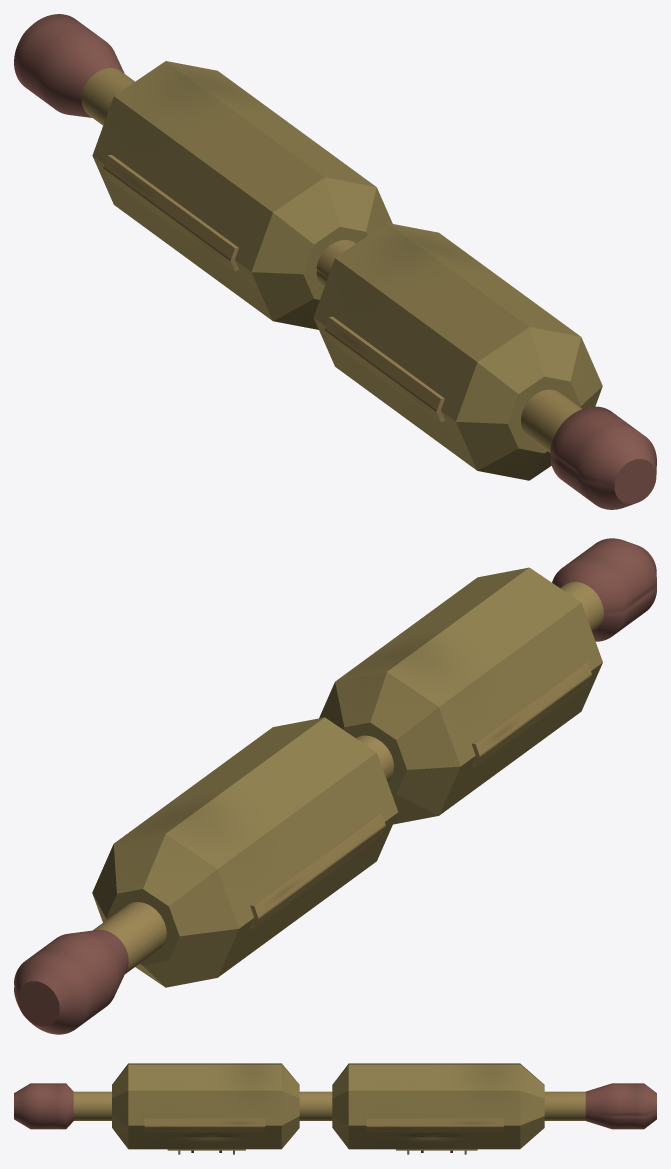
3 views of the same model, one above another, from view 1: azimuth 30°, elevation 25°; view 2: azimuth 150°, elevation 25°; view 3: azimuth 270°, elevation 25° (orthographic). The views are drawn at different scales.
Parts seen in each view (by area): view 1: Braccatian Comms Killer gold rear barrel, Braccatian Comms Killer gold forward barrel, Braccatian Comms Killer red forward terminal, Braccatian Comms Killer red rear terminal, Braccatian Comms Killer gold central shaft, Braccatian Comms Killer gold longitudinal casting 1 1, Braccatian Comms Killer gold longitudinal casting 0 1; view 2: Braccatian Comms Killer gold rear barrel, Braccatian Comms Killer gold forward barrel, Braccatian Comms Killer red rear terminal, Braccatian Comms Killer red forward terminal, Braccatian Comms Killer gold central shaft, Braccatian Comms Killer gold longitudinal casting 1 1, Braccatian Comms Killer gold longitudinal casting 0 1; view 3: Braccatian Comms Killer gold rear barrel, Braccatian Comms Killer gold forward barrel, Braccatian Comms Killer gold central shaft, Braccatian Comms Killer red rear terminal, Braccatian Comms Killer red forward terminal, Braccatian Comms Killer gold longitudinal casting 1 0, Braccatian Comms Killer gold longitudinal casting 0 0, Braccatian Comms Killer service cover 1.
Boxes of the visible parts, x1,y1,x2,y2 form: Braccatian Comms Killer gold rear barrel: (92,61,392,329); Braccatian Comms Killer gold forward barrel: (313,223,602,480); Braccatian Comms Killer red forward terminal: (550,406,656,509); Braccatian Comms Killer red rear terminal: (14,14,124,117); Braccatian Comms Killer gold central shaft: (81,68,581,452); Braccatian Comms Killer gold longitudinal casting 1 1: (103,155,238,271); Braccatian Comms Killer gold longitudinal casting 0 1: (324,316,444,421); Braccatian Comms Killer gold rear barrel: (92,717,398,987); Braccatian Comms Killer gold forward barrel: (319,567,602,824); Braccatian Comms Killer red rear terminal: (14,929,128,1034); Braccatian Comms Killer red forward terminal: (552,538,656,641); Braccatian Comms Killer gold central shaft: (93,582,603,973); Braccatian Comms Killer gold longitudinal casting 1 1: (250,812,385,928); Braccatian Comms Killer gold longitudinal casting 0 1: (471,661,591,766); Braccatian Comms Killer gold rear barrel: (332,1063,544,1149); Braccatian Comms Killer gold forward barrel: (112,1063,299,1149); Braccatian Comms Killer gold central shaft: (73,1091,585,1120); Braccatian Comms Killer red rear terminal: (585,1083,656,1129); Braccatian Comms Killer red forward terminal: (14,1083,73,1129); Braccatian Comms Killer gold longitudinal casting 1 0: (366,1118,503,1131); Braccatian Comms Killer gold longitudinal casting 0 0: (144,1118,265,1131); Braccatian Comms Killer service cover 1: (396,1149,477,1150).
Size of the model in its own units: 0.296 by 0.296 by 1.97.
5 materials, 3 textured.
